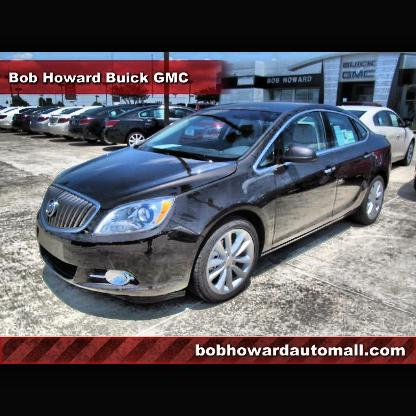Buick Verano Sedan 2012: (36, 103, 392, 303)
